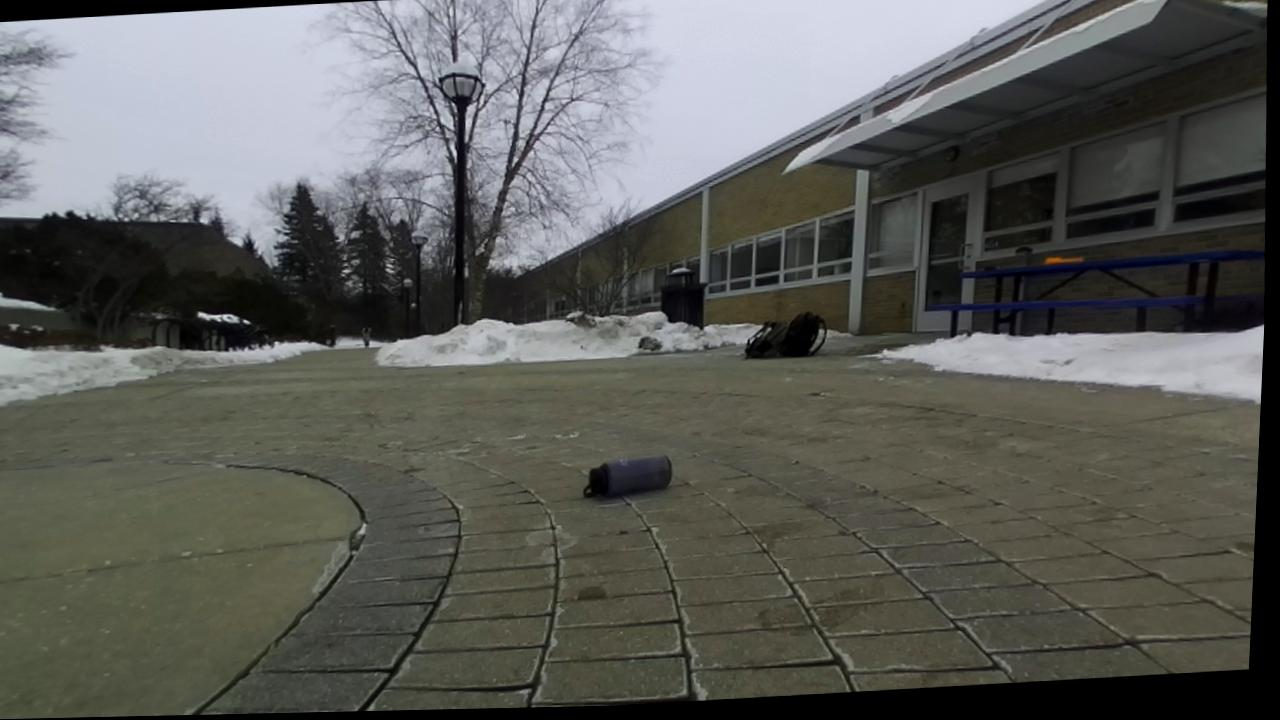bottle: (585, 455, 671, 496)
